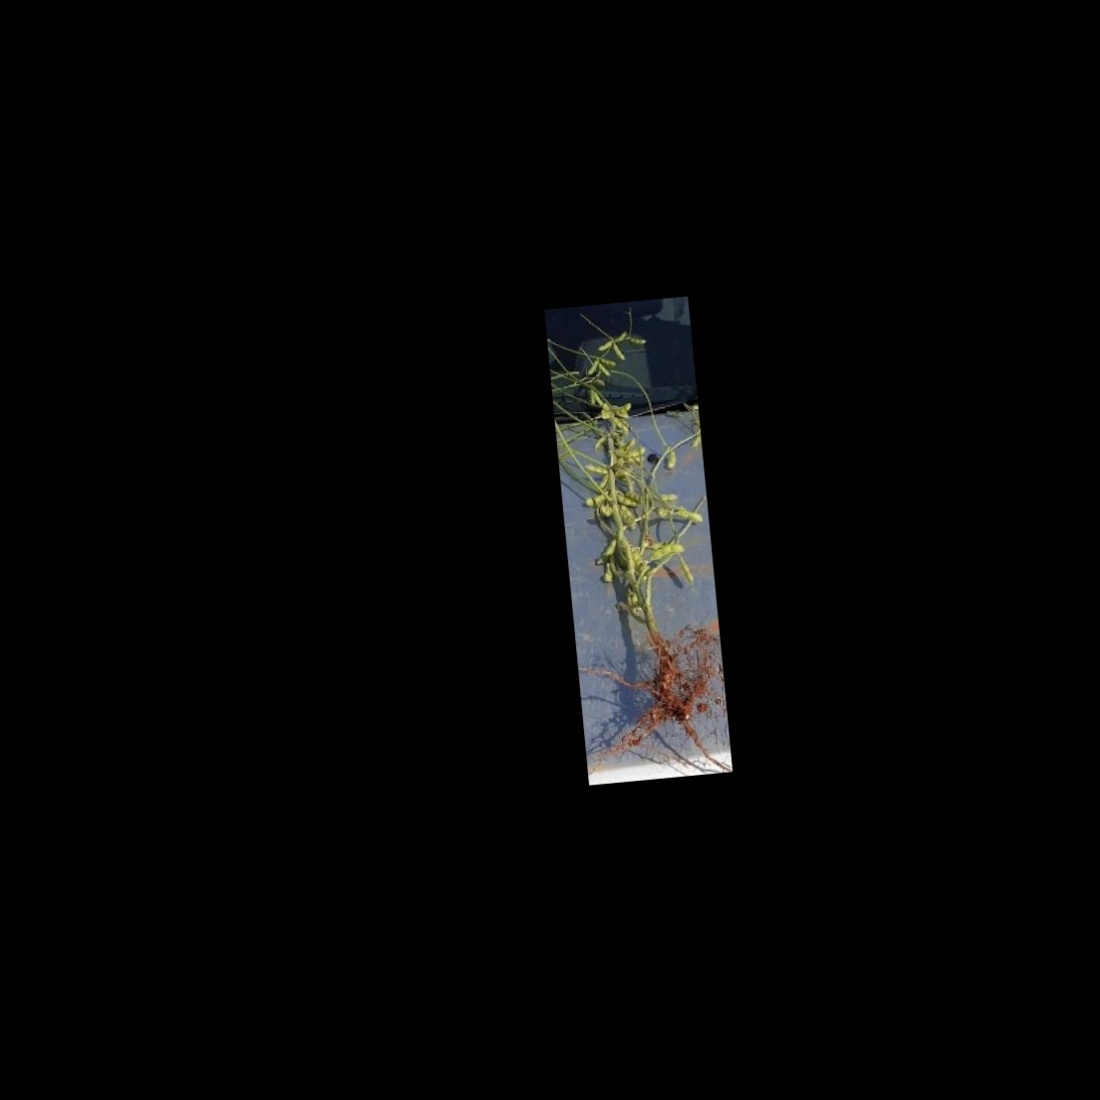pod: (645, 543, 687, 565), (674, 505, 706, 526), (678, 556, 695, 588), (662, 448, 679, 472), (585, 462, 609, 478), (583, 493, 605, 507), (590, 435, 608, 452), (585, 358, 601, 377), (656, 491, 679, 504), (612, 402, 633, 416), (611, 341, 625, 363), (591, 389, 603, 408), (599, 361, 611, 379), (628, 335, 647, 347), (595, 340, 613, 352), (587, 389, 596, 407)
soy: (553, 301, 726, 758)
